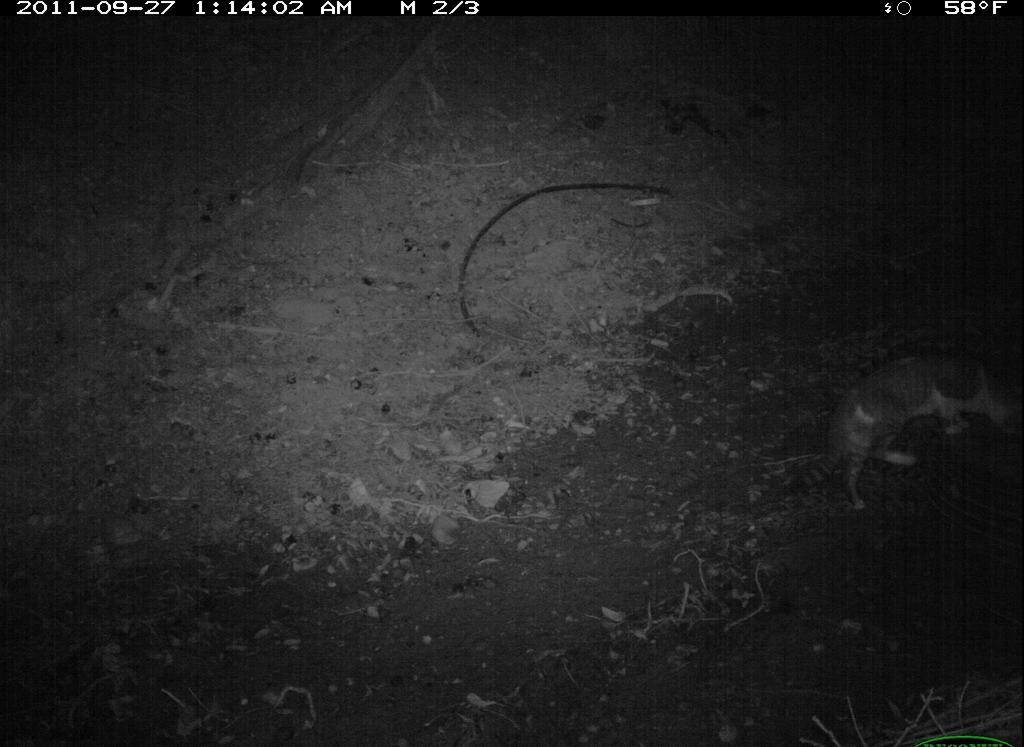cat: (773, 335, 1014, 518)
